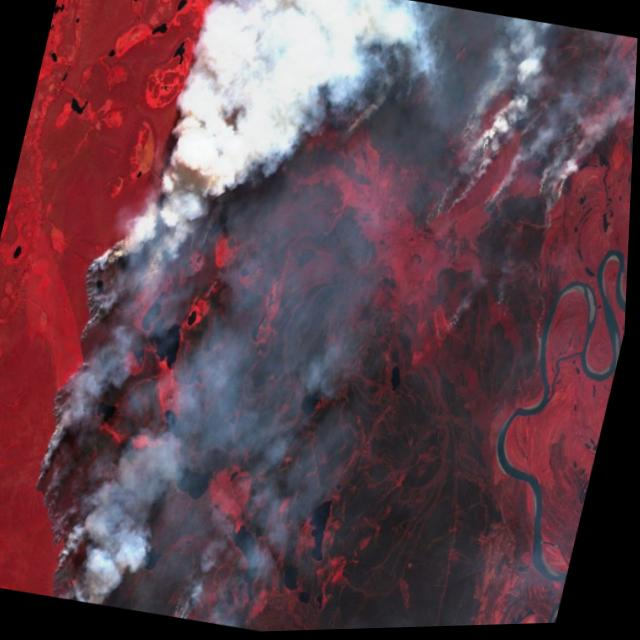fire: (5, 197, 236, 616), (409, 76, 596, 277), (243, 0, 354, 60), (321, 107, 388, 169)
